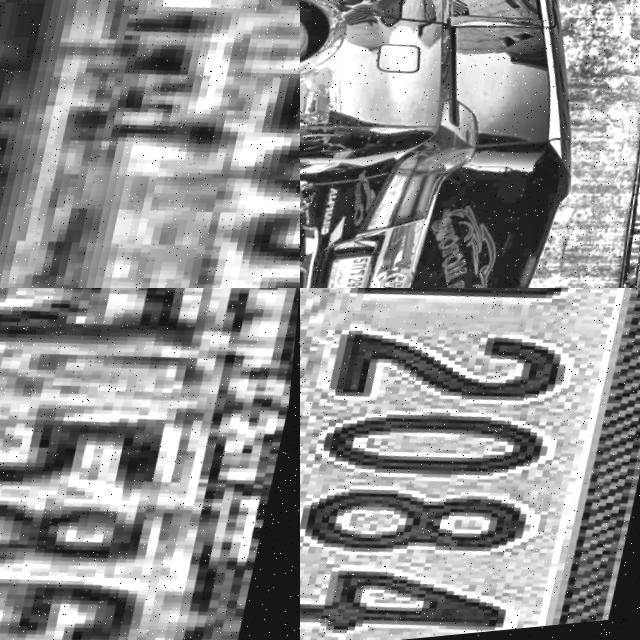license-plate: (300, 288, 640, 640), (0, 288, 300, 640), (0, 0, 300, 288), (330, 255, 383, 288)
